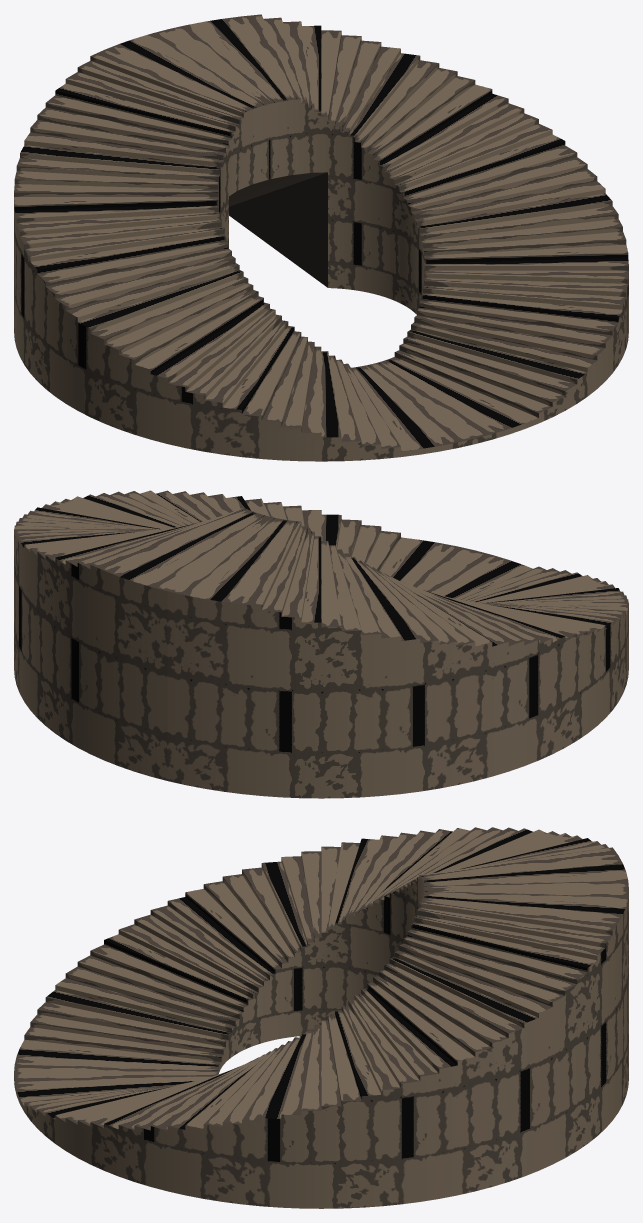
Rendered from O_stairs.fbx.
3 views of the same model, one above another, from view 1: azimuth 30°, elevation 25°; view 2: azimuth 150°, elevation 25°; view 3: azimuth 270°, elevation 25° (orthographic).
Visible parts, largest first — view 1: stairs.005; view 2: stairs.005; view 3: stairs.005.
Part boxes in pixels (bbox=[...]): stairs.005: bbox=[14, 14, 628, 461]; stairs.005: bbox=[14, 490, 628, 798]; stairs.005: bbox=[14, 827, 628, 1208].
Size of the model in its own units: 2018 by 687 by 2018.
